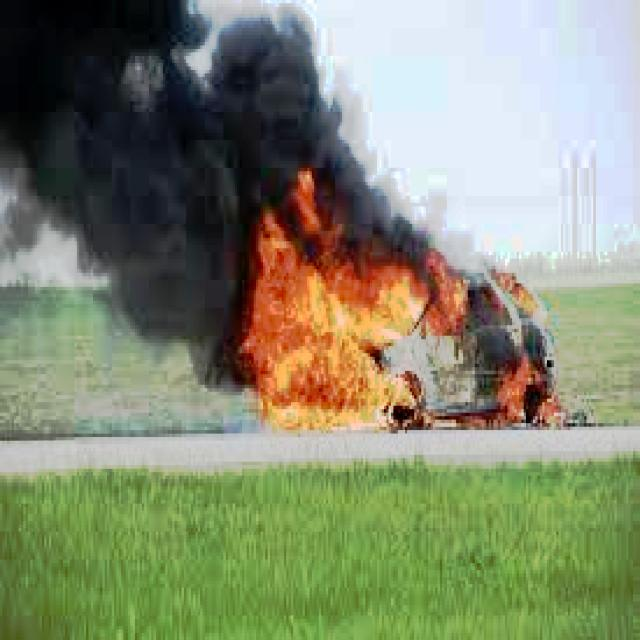api: (239, 169, 565, 435)
